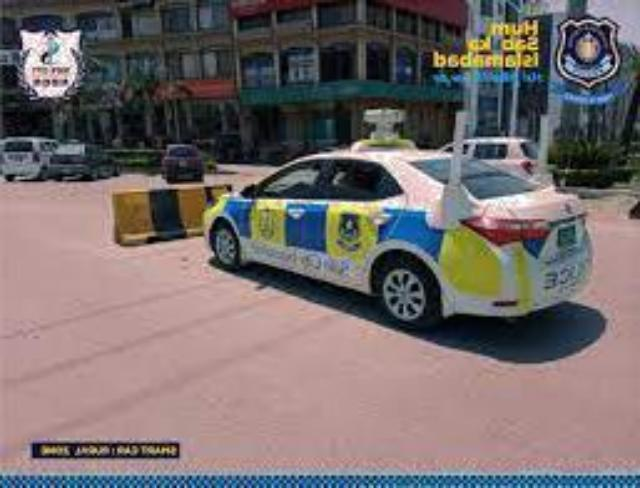police: (202, 137, 595, 331)
